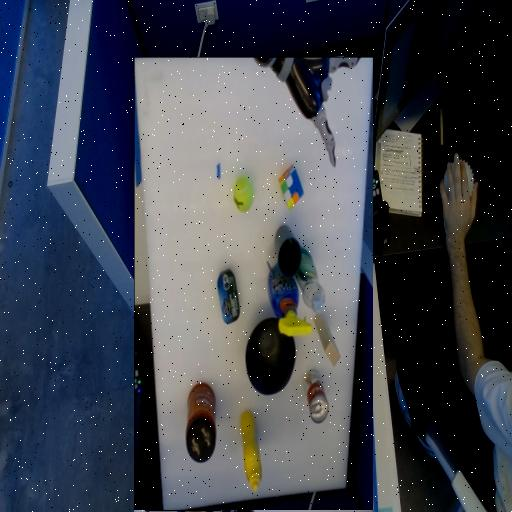bowl: (211, 174, 261, 249)
cleanser: (182, 254, 213, 319)
coffee_can: (291, 105, 320, 184)
jaco: (145, 445, 221, 494)
meat_can: (267, 244, 289, 298)
mug: (206, 291, 232, 341)
mustard_bottle: (246, 108, 266, 126)
rubik: (203, 368, 227, 392)
soup_can: (179, 159, 202, 182)
tennis_ball: (255, 357, 274, 391)
windex: (195, 246, 239, 287)
wooden_block: (166, 214, 192, 238)
workspace: (134, 58, 373, 510)
